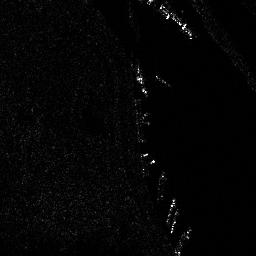ship: (158, 3, 194, 37)
